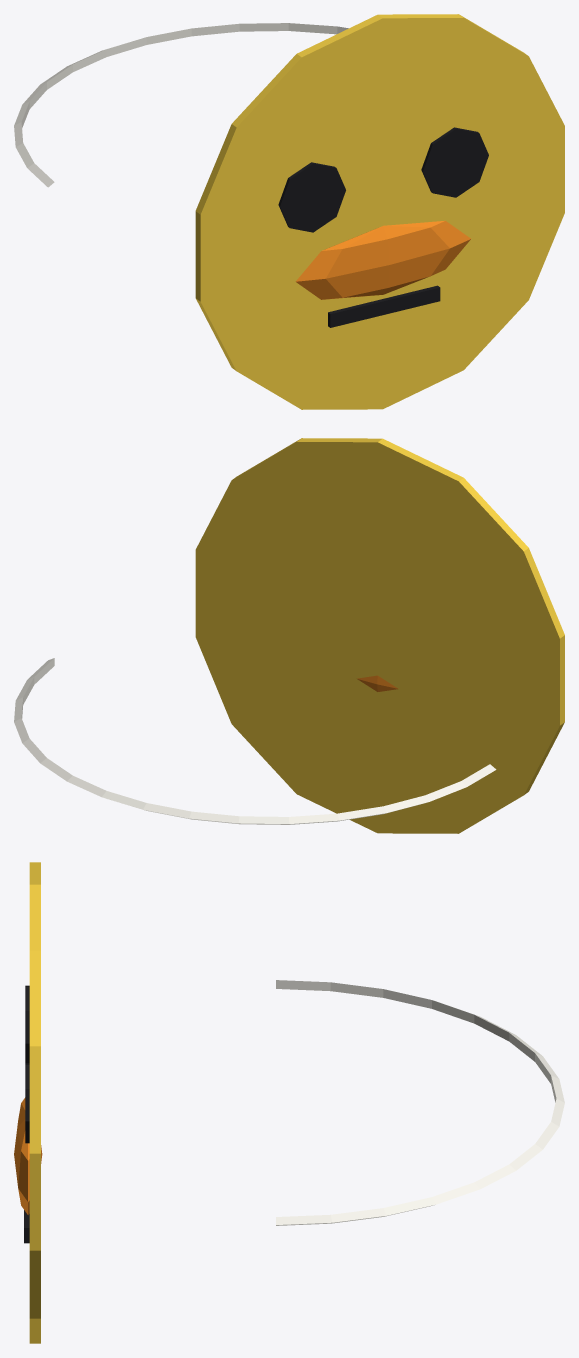
The model's file is bank_mask_pato.glb.
3 renders of one model, top to bottom at view 1: azimuth 30°, elevation 25°; view 2: azimuth 150°, elevation 25°; view 3: azimuth 270°, elevation 25°, orthographic. The views are drawn at different scales.
Visible parts, largest first — view 1: card_card_pato, card_card_ink, card_card_beak, elastic_card_elastic; view 2: card_card_pato, elastic_card_elastic; view 3: elastic_card_elastic, card_card_pato, card_card_beak, card_card_ink.
Boxes of the visible parts, left/top/right/bottom form: card_card_pato: left=195, top=14, right=564, bottom=409; card_card_ink: left=278, top=127, right=488, bottom=327; card_card_beak: left=295, top=220, right=470, bottom=299; elastic_card_elastic: left=14, top=23, right=348, bottom=187; card_card_pato: left=195, top=438, right=564, bottom=833; elastic_card_elastic: left=14, top=658, right=496, bottom=824; elastic_card_elastic: left=276, top=980, right=564, bottom=1225; card_card_pato: left=29, top=862, right=40, bottom=1343; card_card_beak: left=14, top=1097, right=42, bottom=1214; card_card_ink: left=24, top=985, right=29, bottom=1243.
Bounding box in the file's own units: 0.408 × 0.34 × 0.389.
